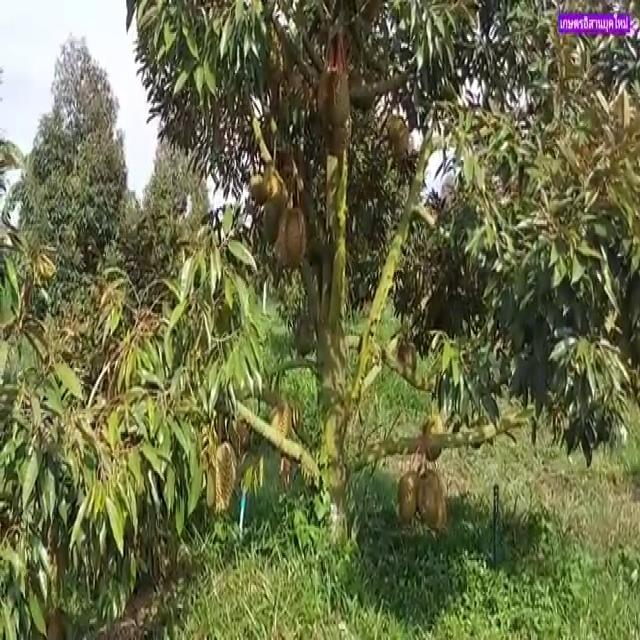durian: (316, 65, 354, 138), (416, 467, 449, 536), (212, 438, 238, 514), (283, 206, 309, 272), (397, 464, 423, 526), (266, 394, 291, 458), (324, 109, 355, 160), (421, 409, 447, 464), (386, 110, 410, 164)
